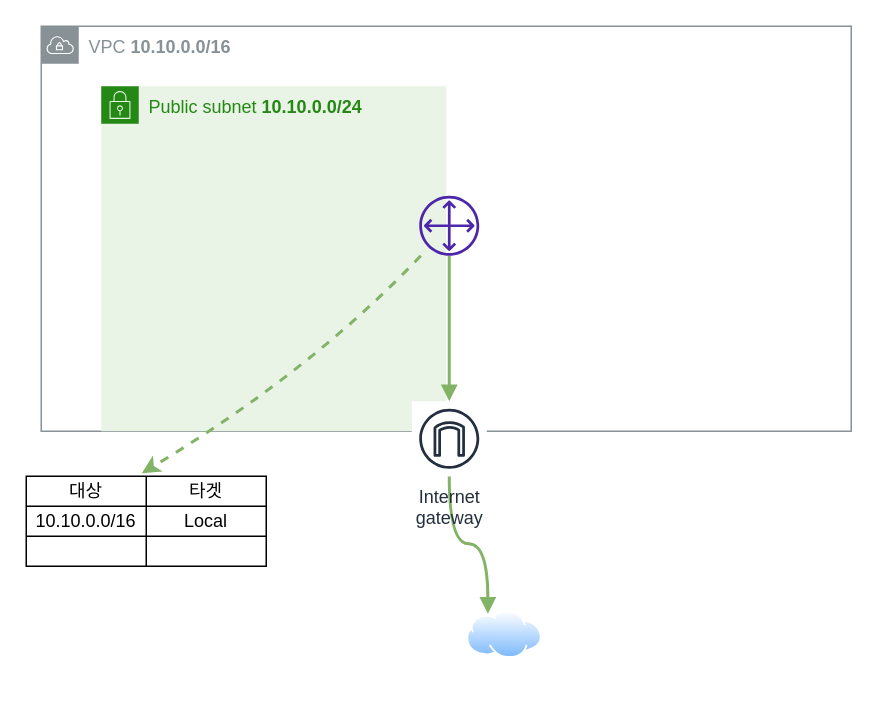
The diagram is 878 pixels wide and 720 high, and some of its shapes have lost their labels. The centre of each missing label's shape, as x and y in pixels:
Internet: point 504,634
가상 라우터: point 448,225
